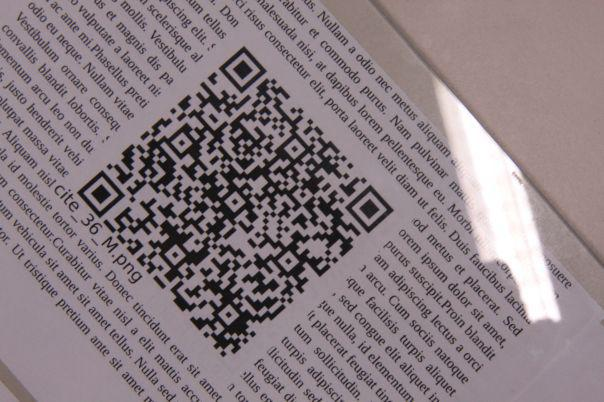Finder pattern: (76, 169, 124, 217), (346, 184, 394, 231), (215, 48, 268, 90)
